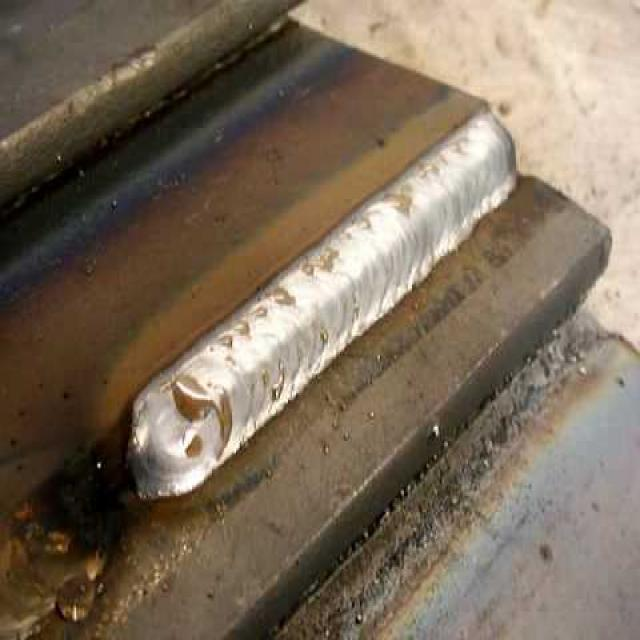Good Welding: (97, 336, 346, 487), (264, 238, 467, 342), (378, 146, 522, 234)
